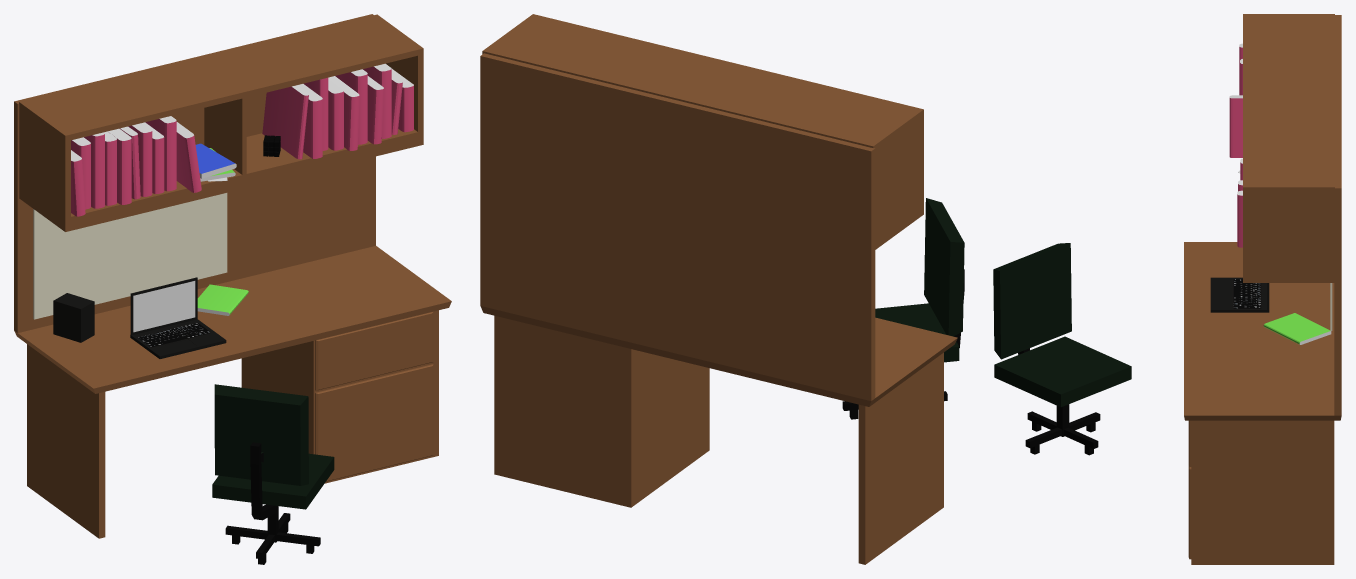
The model's file is study area.fbx.
3 views of the same model, side by side, from view 1: azimuth 30°, elevation 25°; view 2: azimuth 150°, elevation 25°; view 3: azimuth 270°, elevation 25° (orthographic). The views are drawn at different scales.
Visible parts, largest first — view 1: Cube.005, Cube.014, Plane.013, Cube.026, Cube.024, Cube.023, Cube.017, Cube.033, Cube.034, Cube.036; view 2: Cube.005, Cube.014, Cube.026; view 3: Cube.005, Cube.014, Cube.026, Cube.017, Cube.034, Cube.023, Cube.024.
Boxes of the visible parts, left/top/right/bottom form: Cube.005: left=14, top=14, right=451, bottom=538; Cube.014: left=19, top=14, right=423, bottom=231; Plane.013: left=33, top=193, right=227, bottom=319; Cube.026: left=212, top=384, right=334, bottom=564; Cube.024: left=262, top=63, right=413, bottom=159; Cube.023: left=71, top=116, right=201, bottom=216; Cube.017: left=130, top=277, right=226, bottom=358; Cube.033: left=53, top=293, right=94, bottom=342; Cube.034: left=197, top=284, right=248, bottom=315; Cube.036: left=195, top=143, right=236, bottom=178; Cube.005: left=480, top=53, right=957, bottom=564; Cube.014: left=482, top=14, right=923, bottom=249; Cube.026: left=842, top=198, right=964, bottom=419; Cube.005: left=1184, top=15, right=1341, bottom=564; Cube.014: left=1243, top=14, right=1334, bottom=282; Cube.026: left=993, top=243, right=1131, bottom=455; Cube.017: left=1210, top=277, right=1269, bottom=312; Cube.034: left=1263, top=313, right=1331, bottom=344; Cube.023: left=1229, top=43, right=1242, bottom=157; Cube.024: left=1237, top=158, right=1242, bottom=247.
Size of the model in its own units: 169 by 173 by 143.
